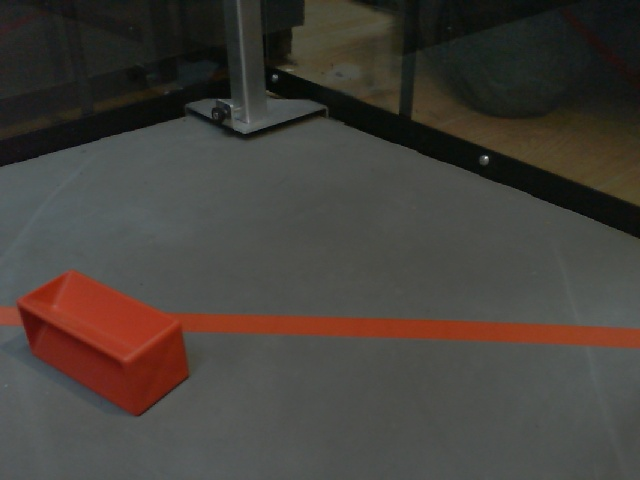RedSample: (16, 266, 190, 417)
